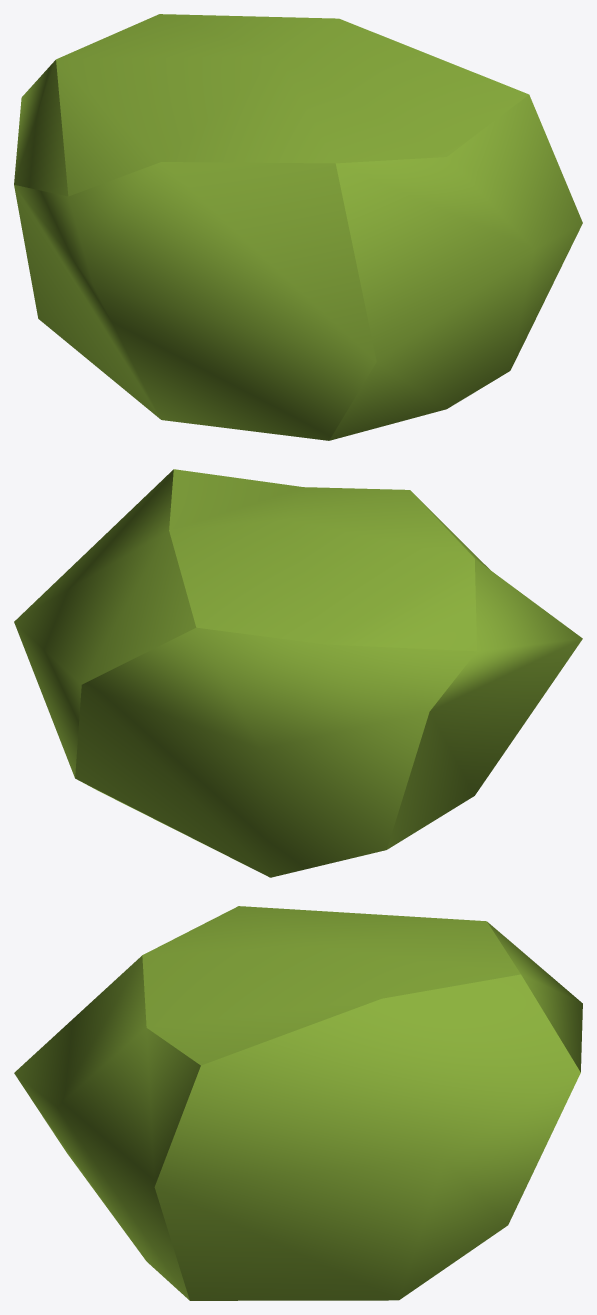
The model's file is bush3.fbx.
The picture shows the model from 3 angles, top to bottom: view 1: azimuth 30°, elevation 25°; view 2: azimuth 150°, elevation 25°; view 3: azimuth 270°, elevation 25°; orthographic projection. The views are drawn at different scales.
Parts seen in each view (by area): view 1: bush3; view 2: bush3; view 3: bush3.
Part boxes in pixels (x1,y1,x2,y2): bush3: (14,14,582,440); bush3: (14,469,582,877); bush3: (14,906,582,1300).
Bounding box in the file's own units: 113 × 71.83 × 124.
